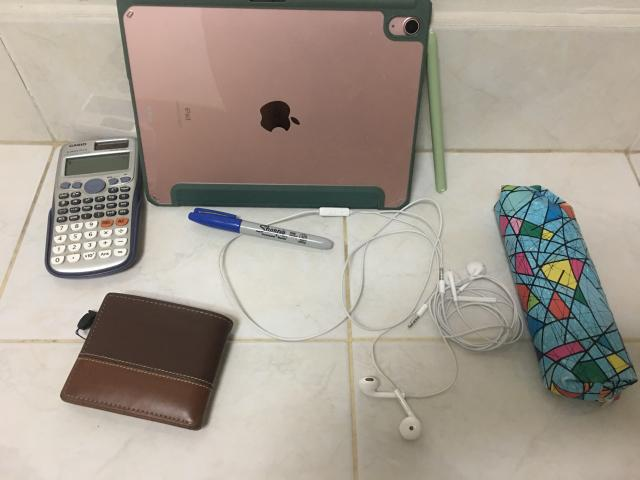Pen: (189, 208, 332, 249)
Wallet: (60, 292, 232, 430)
wire: (220, 198, 525, 440)
